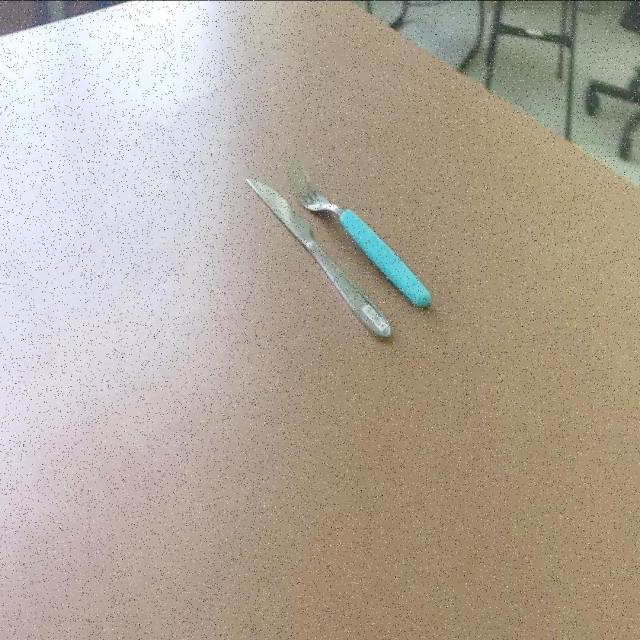Fork: (286, 158, 432, 308)
Knife: (244, 174, 392, 338), (285, 158, 432, 309)
